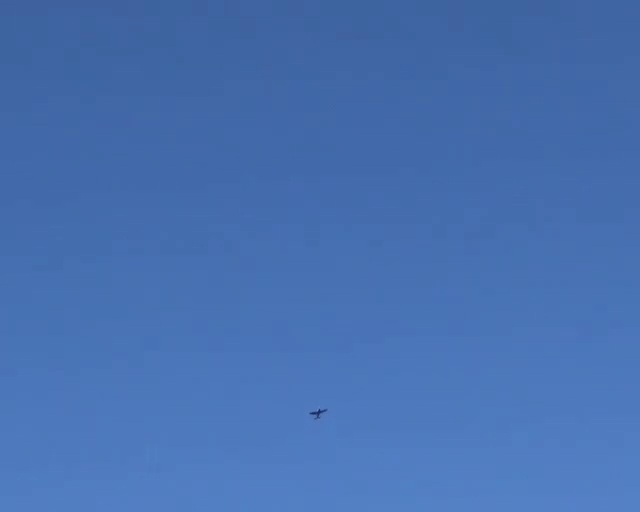AIRPLANE: (308, 407, 328, 420)
